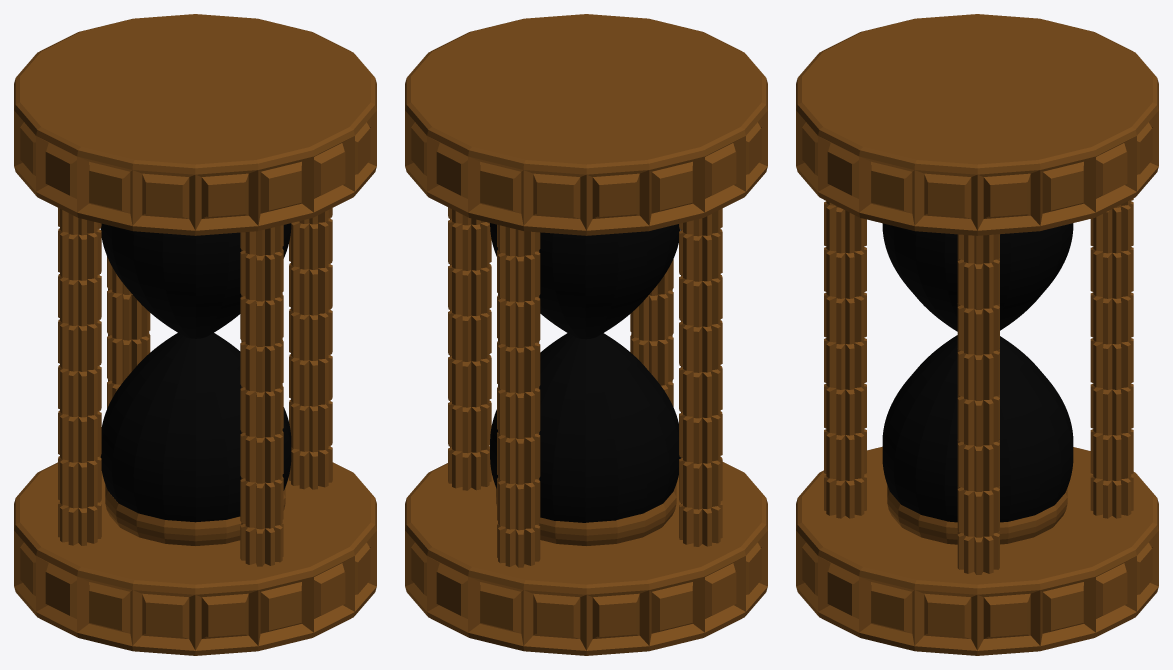
Rendered from hourglass_c.fbx.
The picture shows the model from 3 angles, left to right: view 1: azimuth 30°, elevation 25°; view 2: azimuth 150°, elevation 25°; view 3: azimuth 270°, elevation 25°; orthographic projection.
Visible parts, largest first — view 1: Cylinder003, Cylinder001, Cylinder002, Cylinder006, Cylinder005, Cylinder007, Cylinder004; view 2: Cylinder003, Cylinder001, Cylinder002, Cylinder004, Cylinder005, Cylinder007, Cylinder006; view 3: Cylinder003, Cylinder001, Cylinder002, Cylinder007, Cylinder004, Cylinder006.
Boxes of the visible parts, x1,y1,x2,y2 form: Cylinder003: [14, 14, 376, 235]; Cylinder001: [14, 456, 376, 655]; Cylinder002: [100, 223, 291, 522]; Cylinder006: [240, 225, 283, 566]; Cylinder005: [58, 208, 101, 545]; Cylinder007: [289, 208, 332, 489]; Cylinder004: [107, 256, 150, 408]; Cylinder003: [405, 14, 767, 235]; Cylinder001: [405, 462, 767, 655]; Cylinder002: [490, 223, 680, 522]; Cylinder004: [497, 224, 540, 567]; Cylinder005: [679, 208, 722, 546]; Cylinder007: [448, 207, 491, 490]; Cylinder006: [630, 259, 673, 406]; Cylinder003: [796, 14, 1158, 235]; Cylinder001: [796, 446, 1158, 655]; Cylinder002: [882, 223, 1073, 522]; Cylinder007: [957, 234, 999, 574]; Cylinder004: [1090, 198, 1133, 518]; Cylinder006: [824, 200, 866, 518].
Size of the model in its own units: 191 by 282 by 188.
